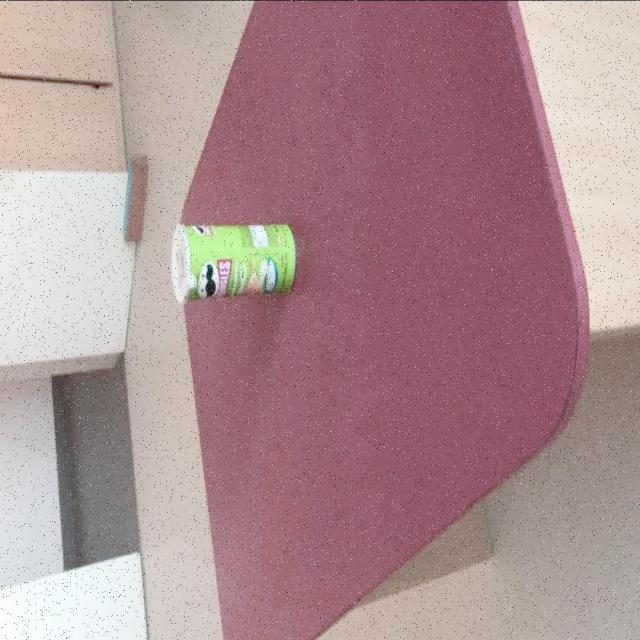Pringles: (170, 223, 295, 306)
